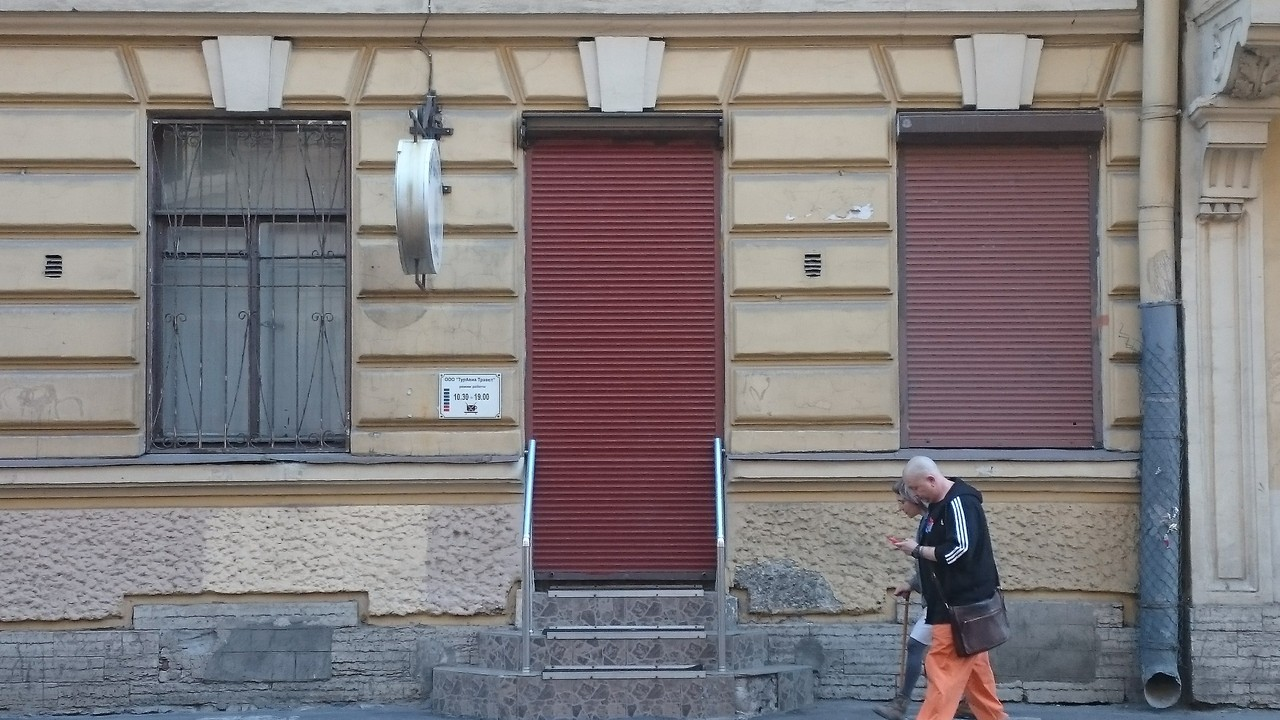cantilever: (392, 87, 457, 291)
window: (892, 121, 1100, 451), (154, 120, 347, 448)
